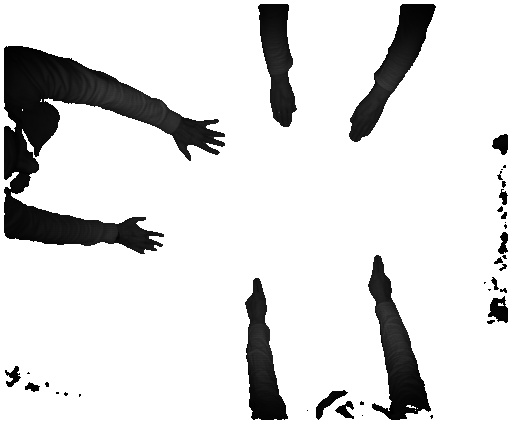hand: (177, 118, 231, 167), (344, 97, 386, 143), (119, 216, 167, 255), (264, 87, 303, 127), (368, 248, 397, 300), (244, 272, 271, 322)
